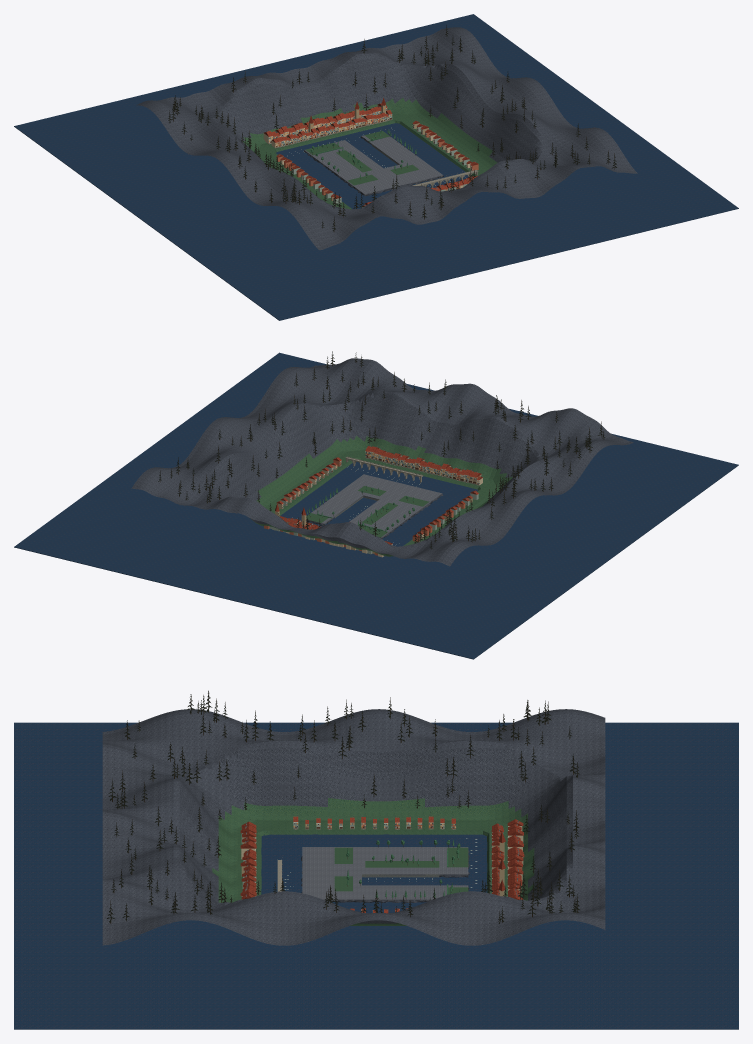
Rendered from MB_Scenery.fbx.
The picture shows the model from 3 angles, top to bottom: view 1: azimuth 30°, elevation 25°; view 2: azimuth 150°, elevation 25°; view 3: azimuth 270°, elevation 25°; orthographic projection. The views are drawn at different scales.
Parts seen in each view (by area): view 1: Water, Hills, Ground_W, Ground_E, Ground_N; view 2: Water, Hills, Ground_W, Ground_E, Ground_N; view 3: Water, Hills, Ground_W, Ground_E, Ground_N.
Boxes of the visible parts, x1,y1,x2,y2 form: Water: [14, 14, 738, 320]; Hills: [136, 27, 637, 250]; Ground_W: [304, 140, 405, 195]; Ground_E: [361, 135, 420, 164]; Ground_N: [384, 159, 443, 184]; Water: [14, 352, 738, 659]; Hills: [131, 358, 633, 566]; Ground_W: [349, 483, 442, 538]; Ground_E: [309, 490, 363, 524]; Ground_N: [342, 474, 400, 499]; Water: [14, 722, 738, 1029]; Hills: [102, 709, 605, 945]; Ground_W: [302, 847, 468, 875]; Ground_E: [362, 885, 468, 900]; Ground_N: [302, 874, 361, 900].
Size of the model in its own units: 90000 by 13068 by 90000.
29 materials, 23 textured.
